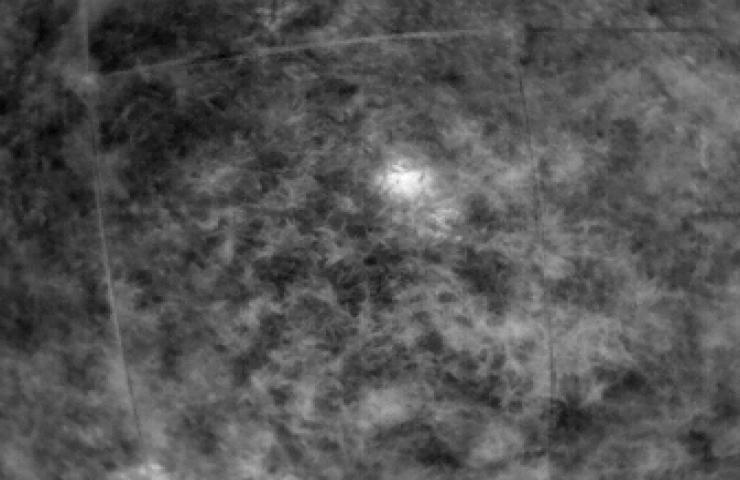landmines: (374, 155, 430, 208)
